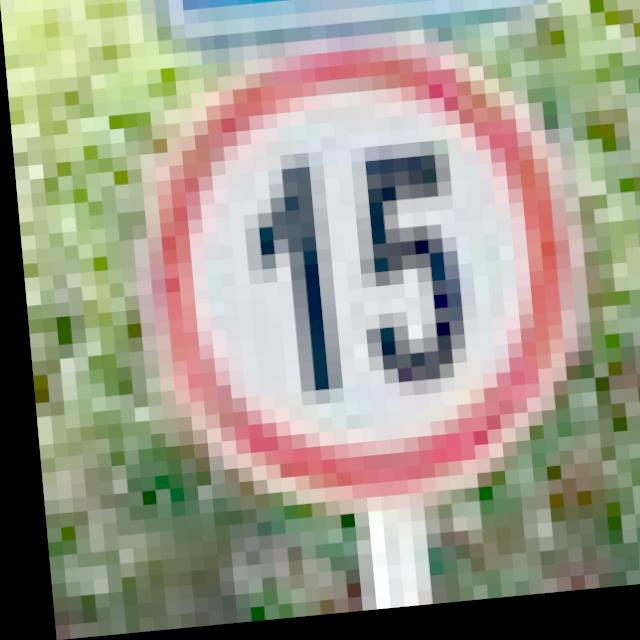SPEED_LIMIT_15: (127, 31, 588, 524)
